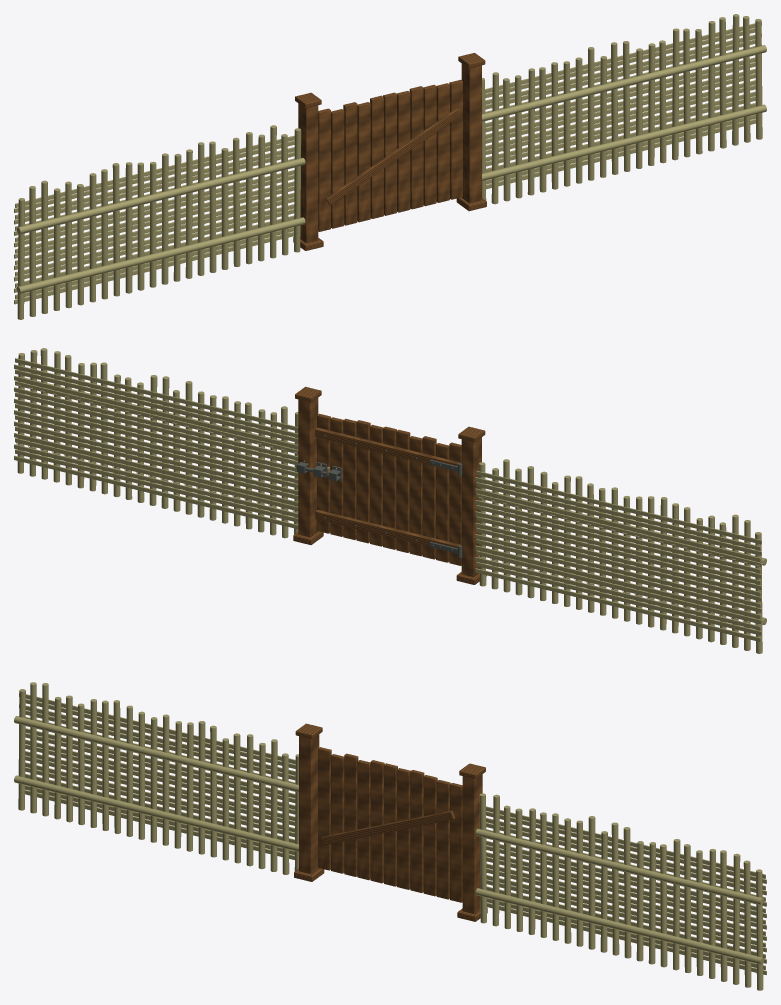
Rendered from VillageGate.fbx.
3 views of the same model, one above another, from view 1: azimuth 30°, elevation 25°; view 2: azimuth 150°, elevation 25°; view 3: azimuth 330°, elevation 25° (orthographic).
Visible parts, largest first — view 1: FenceWingLeft_NW_Bamboo, FenceWingRight_NW_Bamboo, GateLeafHinge_NW_Wood, GateFrame_NW_Wood; view 2: FenceWingLeft_NW_Bamboo, FenceWingRight_NW_Bamboo, GateLeafHinge_NW_Wood, GateFrame_NW_Wood, GateLeafHinge_NW_Iron; view 3: FenceWingRight_NW_Bamboo, FenceWingLeft_NW_Bamboo, GateLeafHinge_NW_Wood, GateFrame_NW_Wood.
Part boxes in pixels (x1,y1,x2,y2): FenceWingLeft_NW_Bamboo: (14,125,305,319); FenceWingRight_NW_Bamboo: (482,14,766,204); GateLeafHinge_NW_Wood: (318,79,462,231); GateFrame_NW_Wood: (293,53,486,250); FenceWingLeft_NW_Bamboo: (475,459,766,653); FenceWingRight_NW_Bamboo: (14,348,298,538); GateLeafHinge_NW_Wood: (315,413,461,565); GateFrame_NW_Wood: (293,386,486,584); GateLeafHinge_NW_Iron: (313,435,457,553); FenceWingRight_NW_Bamboo: (475,793,766,990); FenceWingLeft_NW_Bamboo: (14,682,298,874); GateLeafHinge_NW_Wood: (318,747,462,902); GateFrame_NW_Wood: (294,723,487,921).
Bounding box in the file's own units: 9.32 × 1.79 × 0.309.
5 materials, 1 textured.
